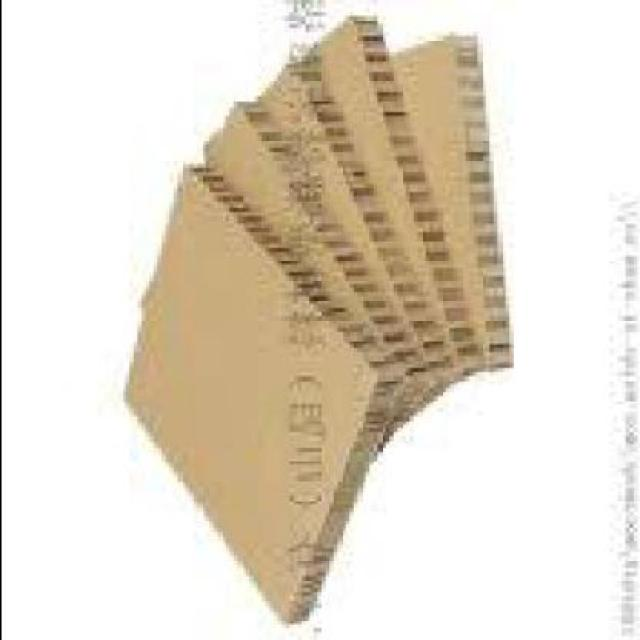CARDBOARD: (116, 165, 399, 620), (136, 95, 419, 480), (252, 56, 440, 449), (304, 12, 476, 392), (392, 32, 512, 368)
